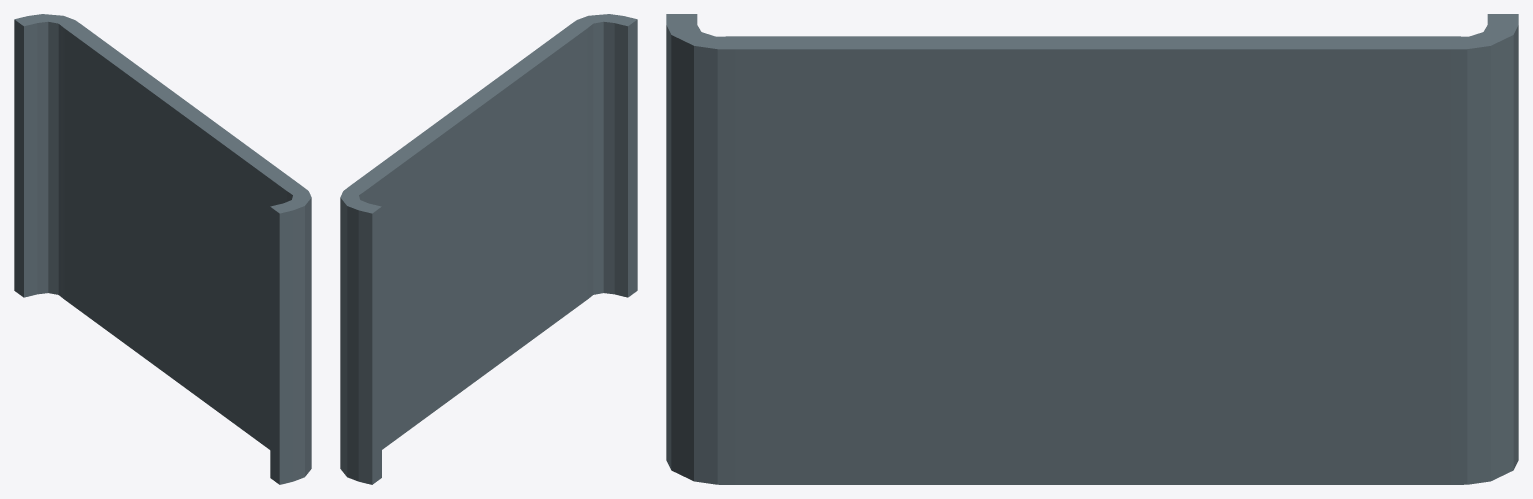
The model's file is Wall with two curvy edge.fbx.
3 renders of one model, left to right at view 1: azimuth 30°, elevation 25°; view 2: azimuth 150°, elevation 25°; view 3: azimuth 270°, elevation 25°, orthographic. The views are drawn at different scales.
Parts seen in each view (by area): view 1: pCube326; view 2: pCube326; view 3: pCube326.
Boxes of the visible parts, x1,y1,x2,y2 form: pCube326: (14, 14, 311, 484); pCube326: (340, 14, 637, 484); pCube326: (666, 14, 1518, 484).
Size of the model in its own units: 24.2 by 139 by 246.
